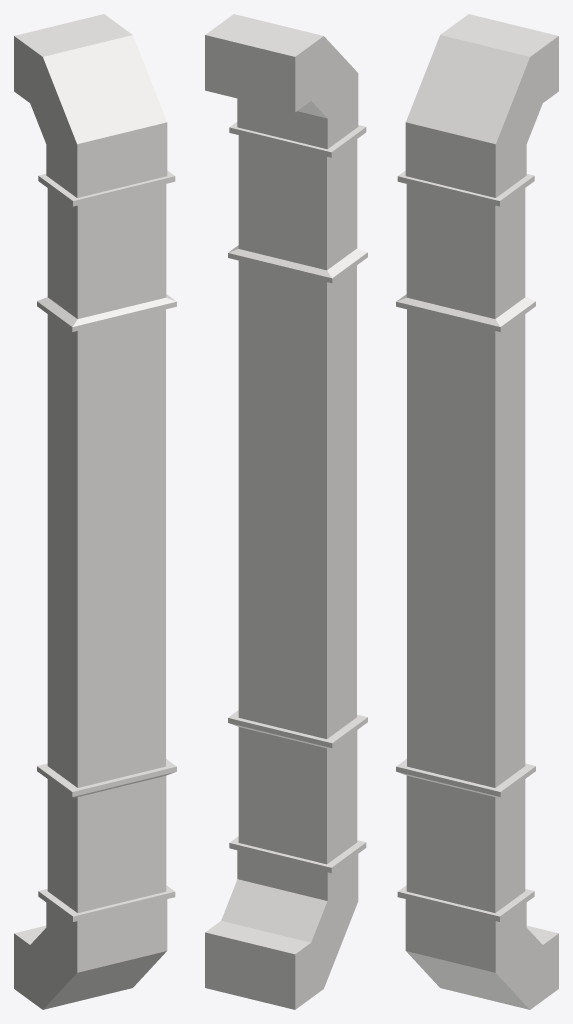
Rendered from SM_ventilationpipe.fbx.
The picture shows the model from 3 angles, left to right: view 1: azimuth 30°, elevation 25°; view 2: azimuth 150°, elevation 25°; view 3: azimuth 330°, elevation 25°; orthographic projection.
Visible parts, largest first — view 1: Line016; view 2: Line016; view 3: Line016.
Part boxes in pixels (x1,y1,x2,y2): Line016: (14, 14, 176, 1009); Line016: (205, 14, 367, 1009); Line016: (396, 14, 558, 1009).
Size of the model in its own units: 21.43 by 23.28 by 187.
